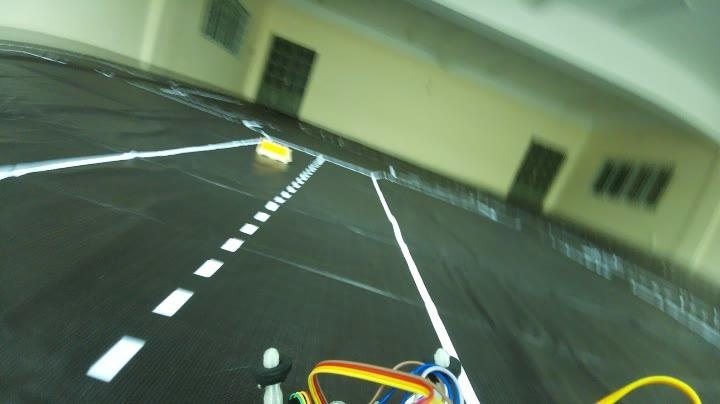roadblock: (255, 134, 298, 170)
